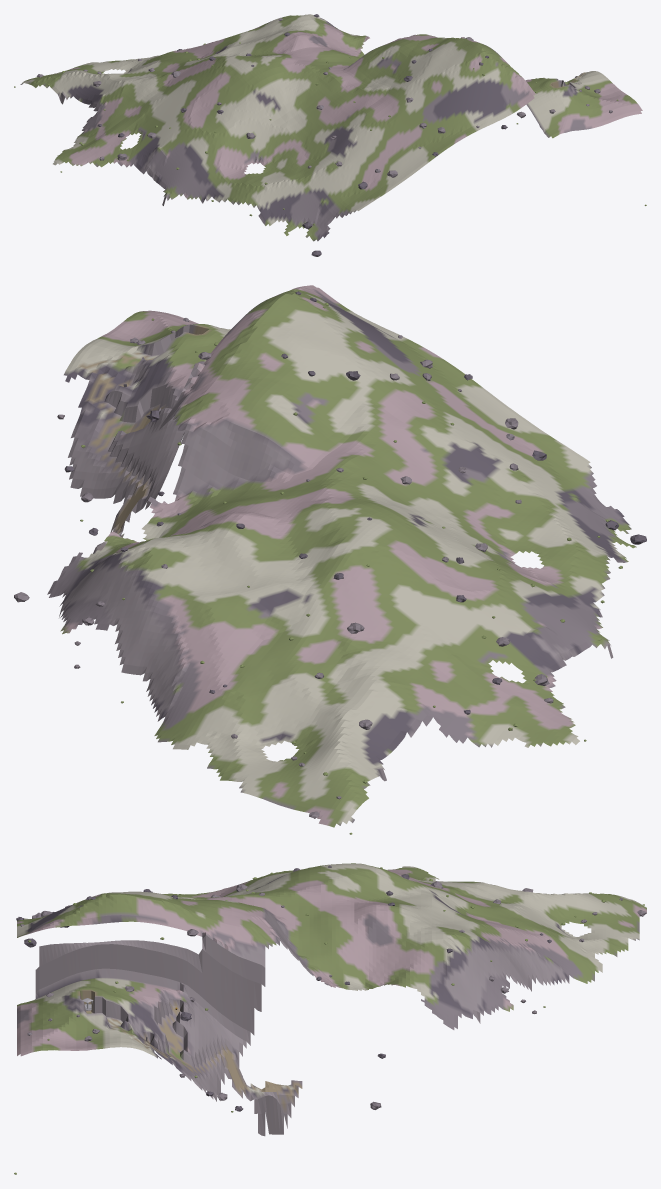
Rendered from coast_isl_saltglass.glb.
3 views of the same model, one above another, from view 1: azimuth 30°, elevation 25°; view 2: azimuth 150°, elevation 25°; view 3: azimuth 270°, elevation 25° (orthographic). The views are drawn at different scales.
Visible parts, largest first — view 1: geometry_0; view 2: geometry_0; view 3: geometry_0.
Part boxes in pixels (bbox=[...]): geometry_0: bbox=[14, 14, 646, 256]; geometry_0: bbox=[14, 285, 646, 834]; geometry_0: bbox=[14, 863, 646, 1174].
Bounding box in the file's own units: 341 × 121 × 342.
